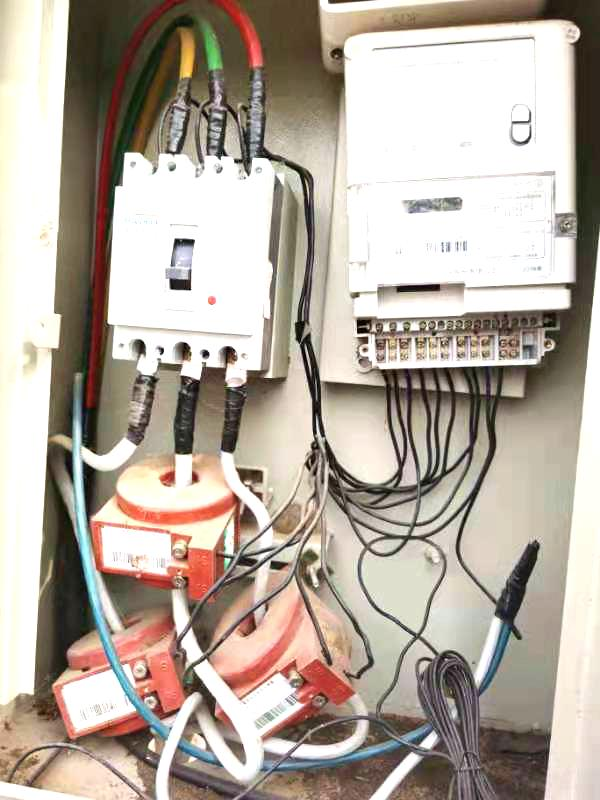digital: (342, 16, 575, 291)
